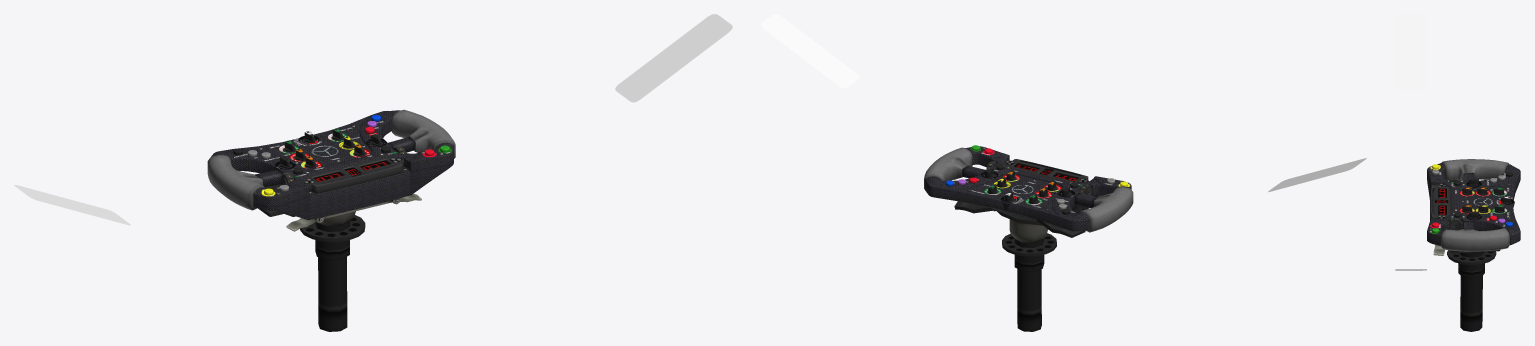
File: Wheel.obj
The picture shows the model from 3 angles, left to right: view 1: azimuth 30°, elevation 25°; view 2: azimuth 150°, elevation 25°; view 3: azimuth 270°, elevation 25°; orthographic projection. The views are drawn at different scales.
Visible parts, largest first — view 1: object__11, object__1, object__9, object__0; view 2: object__11, object__1, object__0, object__9; view 3: object__11, object__0, object__9.
Part boxes in pixels (x1,y1,x2,y2): object__11: (207,109,455,331); object__1: (615,14,732,102); object__9: (302,157,409,195); object__0: (14,185,130,225); object__11: (924,145,1133,331); object__1: (761,14,859,88); object__0: (1268,158,1366,192); object__9: (1004,159,1088,182); object__11: (1427,159,1520,331); object__0: (1395,14,1426,89); object__9: (1431,183,1450,219).
Size of what is drawn, in the model's own units: 0.9183 by 0.3122 by 0.1903.
6 materials, 5 textured.
